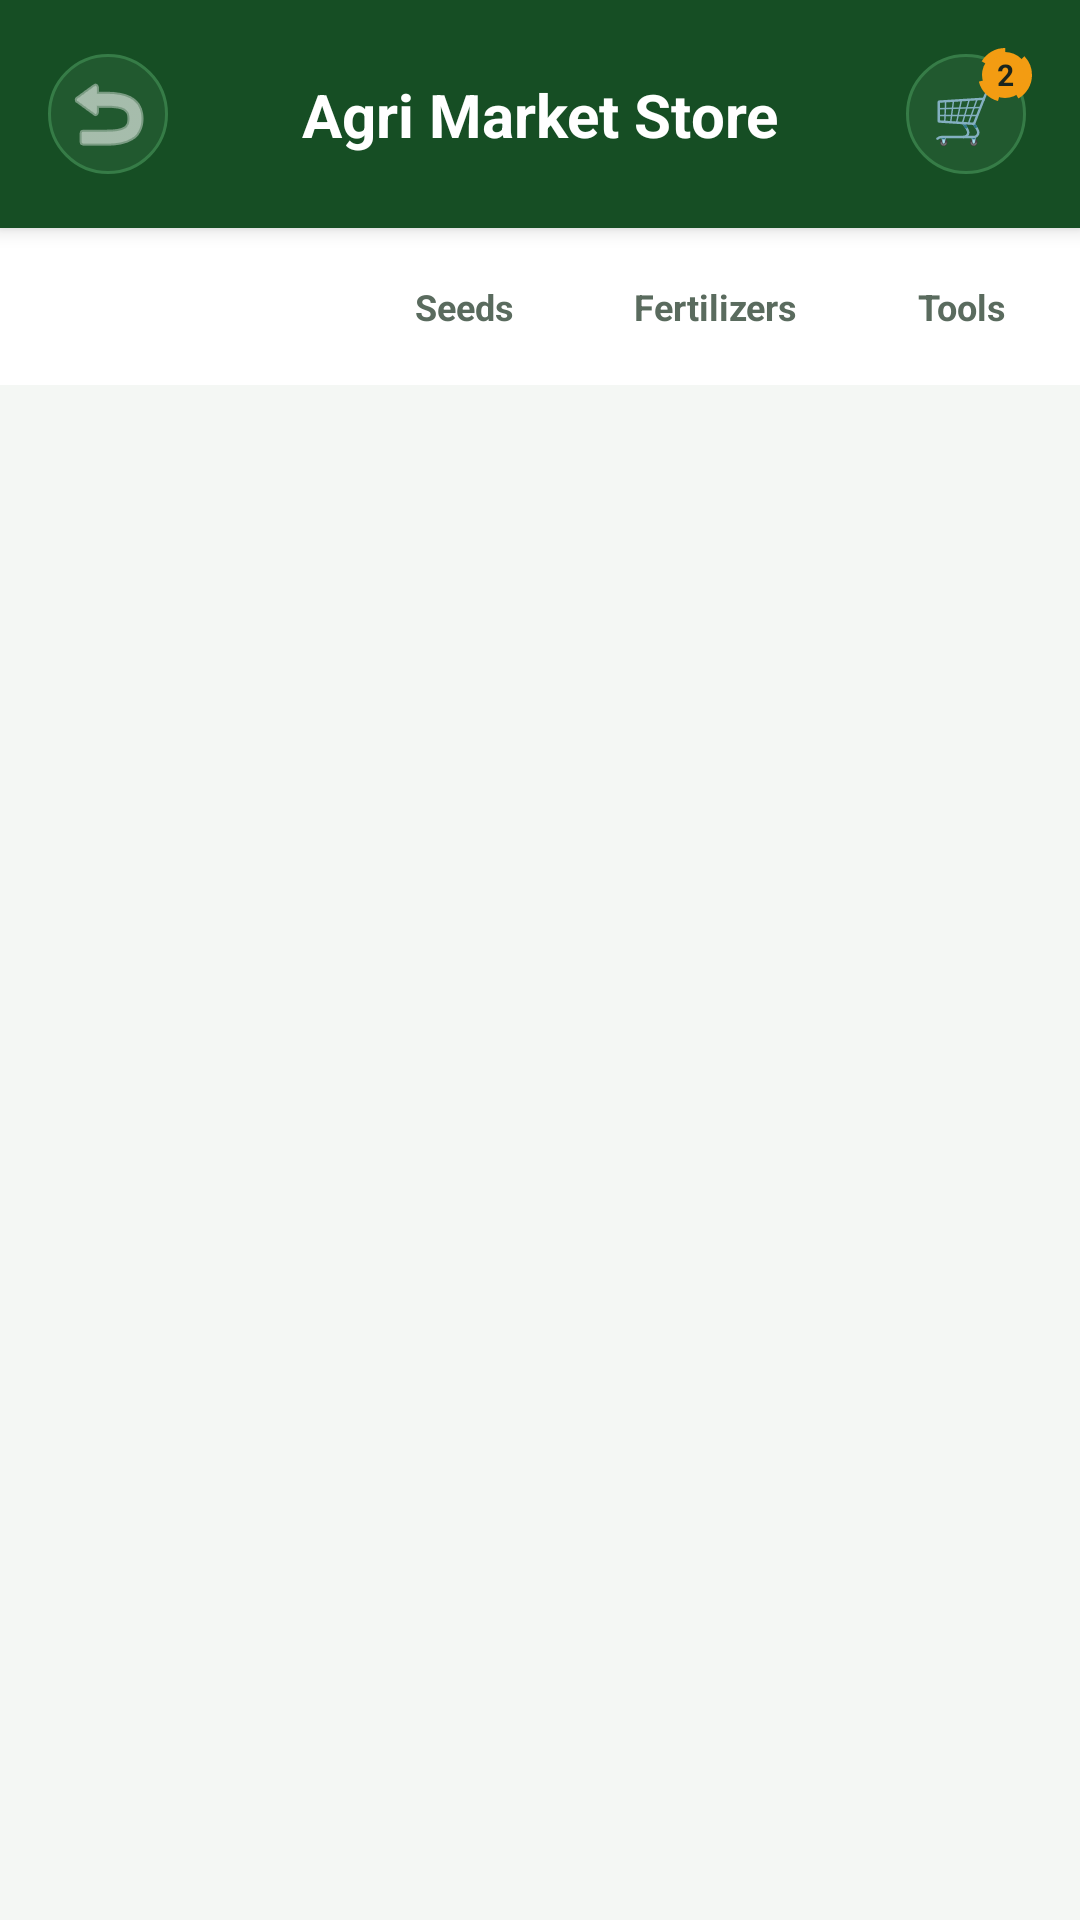

Screen size 1080*1920. Icon name, then its center in pixels as (x=x, y=y):
revert: (x=108, y=114)
